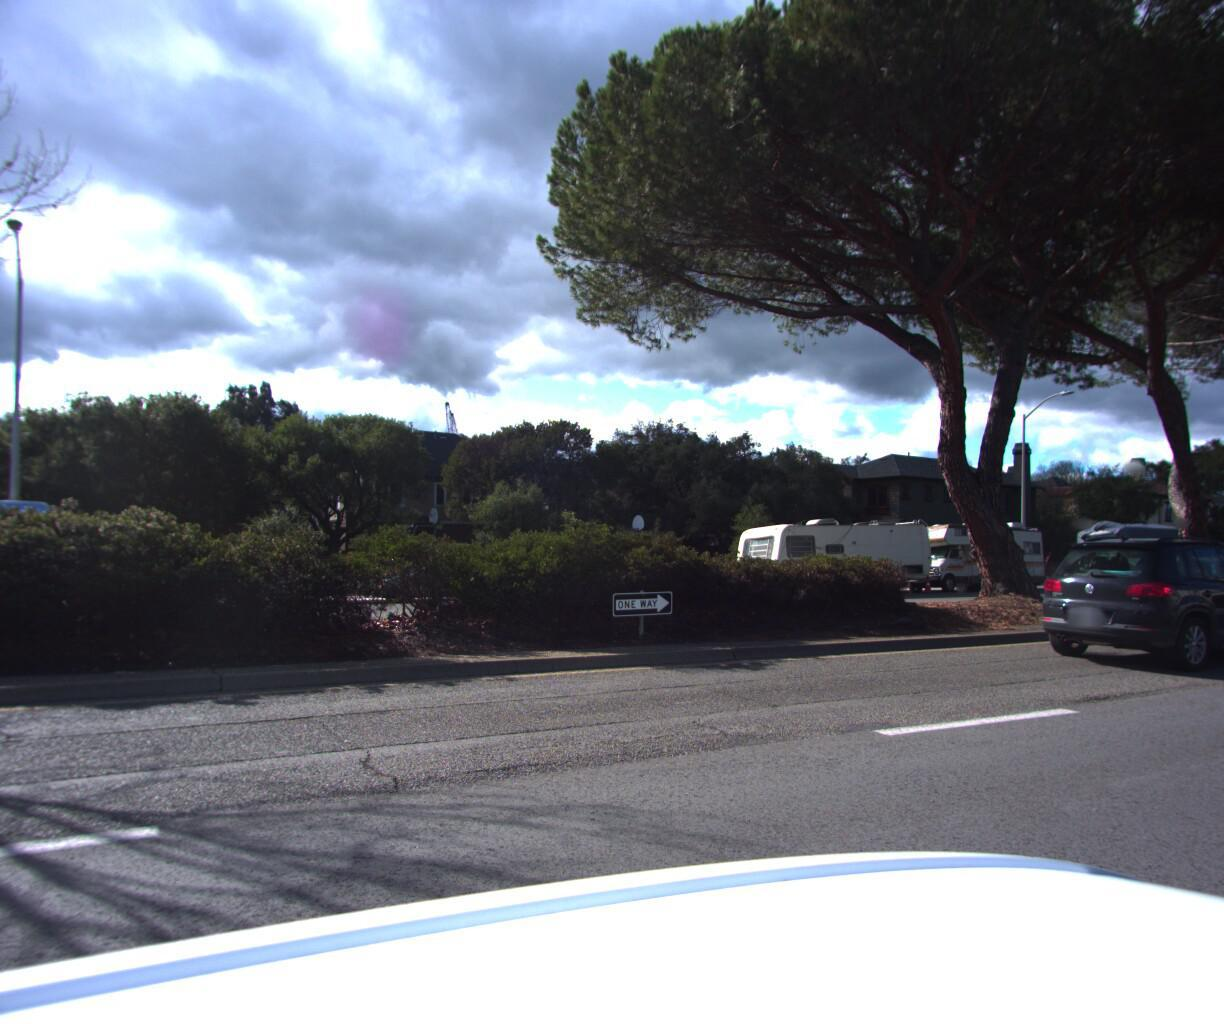car: (1017, 525, 1224, 666), (354, 536, 506, 601), (1187, 552, 1224, 583)
other_vehicle: (711, 506, 937, 594), (893, 513, 1046, 588), (1068, 515, 1213, 588)
